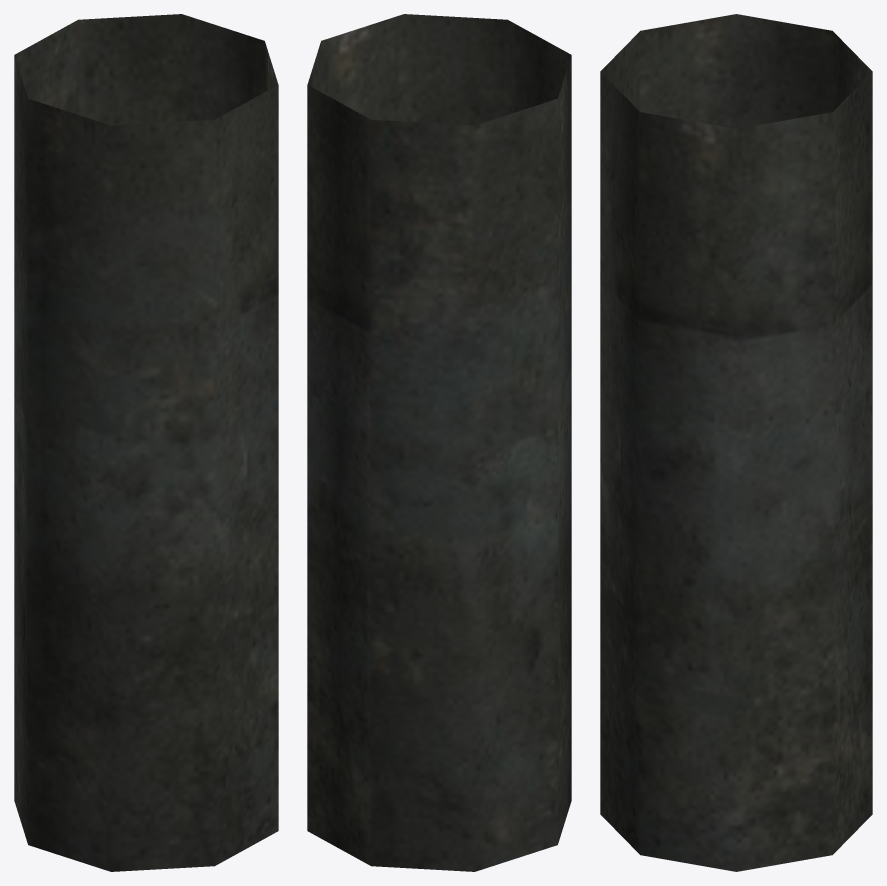
File: ThickMetal_Pipe_M.FBX
The picture shows the model from 3 angles, left to right: view 1: azimuth 30°, elevation 25°; view 2: azimuth 150°, elevation 25°; view 3: azimuth 270°, elevation 25°; orthographic projection.
Parts seen in each view (by area): view 1: ThickMetal_Pipe_M; view 2: ThickMetal_Pipe_M; view 3: ThickMetal_Pipe_M.
Part boxes in pixels (x1,y1,x2,y2): ThickMetal_Pipe_M: (14, 14, 278, 871); ThickMetal_Pipe_M: (307, 14, 571, 871); ThickMetal_Pipe_M: (600, 14, 872, 871).
Bounding box in the file's own units: 51.77 × 156 × 51.77.
